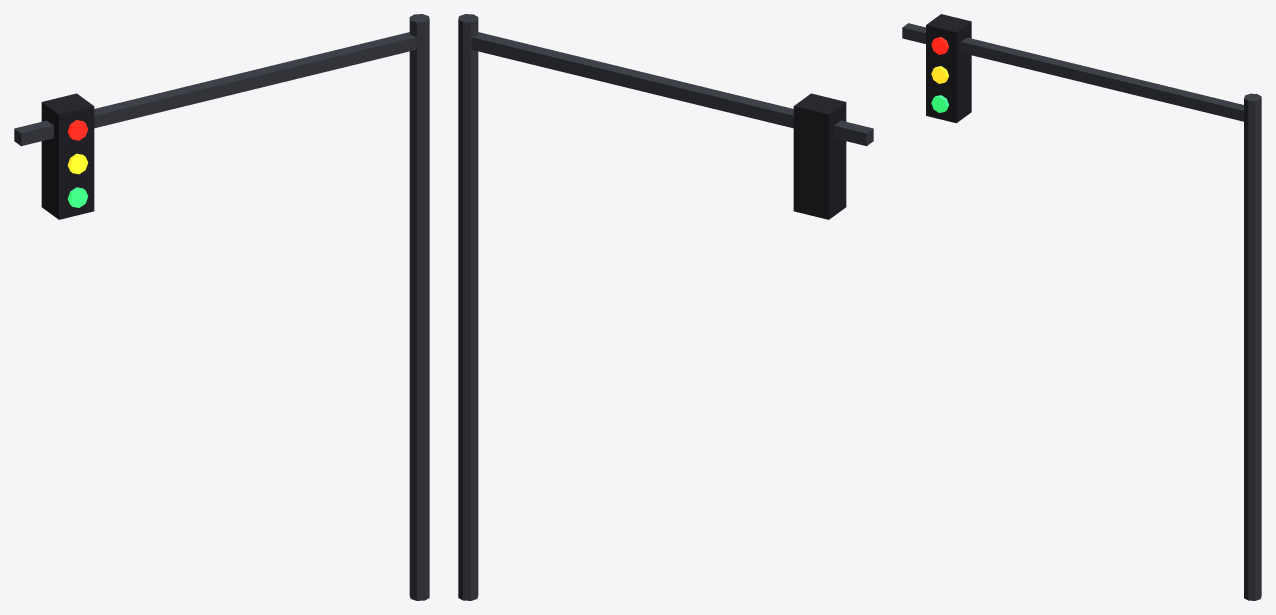
File: traffic_light_arm.glb
3 renders of one model, left to right at view 1: azimuth 30°, elevation 25°; view 2: azimuth 150°, elevation 25°; view 3: azimuth 330°, elevation 25°, orthographic. The views are drawn at different scales.
Parts seen in each view (by area): view 1: traffic_light_arm; view 2: traffic_light_arm; view 3: traffic_light_arm.
Part boxes in pixels (x1,y1,x2,y2): traffic_light_arm: (14, 14, 429, 600); traffic_light_arm: (458, 14, 873, 600); traffic_light_arm: (902, 14, 1261, 600).
Bounding box in the file's own units: 4.09 × 5.5 × 0.345.
